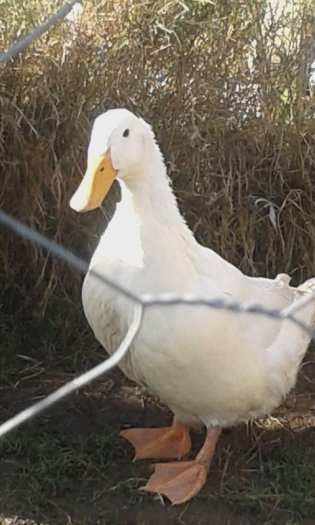Mencari Makan di Lumpur: (61, 143, 117, 219)
